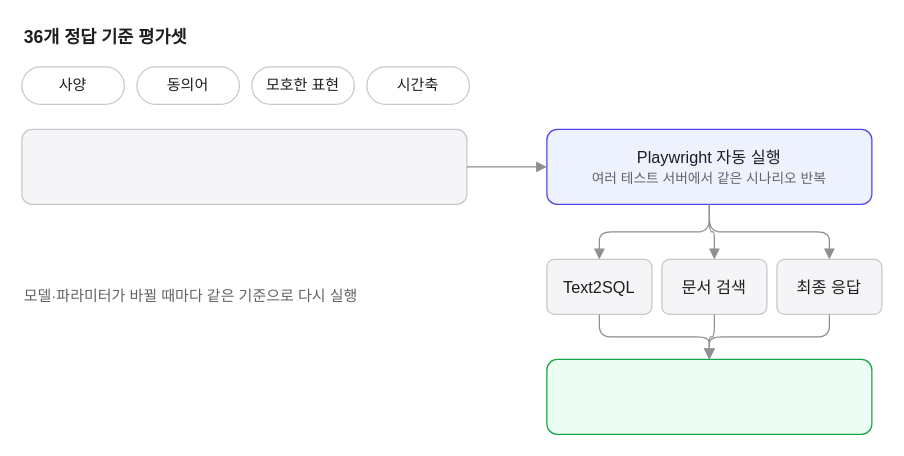
This 904x456 diagram has some shape labels left out. The shapes that lost their labels are listed below. From the top down, each one's centre as x and y in pixels, then its label:
pixel 244 166: 질문마다 정답 정의 찾아야 할 문서 · 본문 위치 · 답변
pixel 709 396: 단계별 실패 지점 리포트 어느 단계가 깨졌는지 바로 확인
